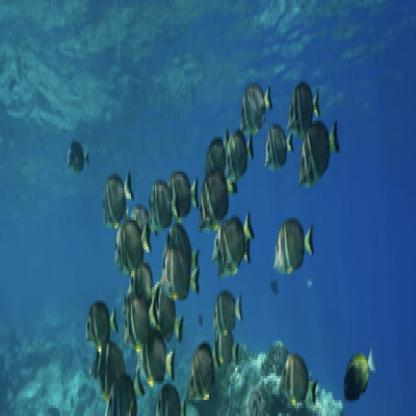Bio: (298, 112, 340, 186), (217, 209, 254, 282), (271, 214, 315, 274), (278, 346, 318, 408), (159, 247, 200, 298), (100, 174, 136, 228), (286, 83, 320, 140), (140, 330, 175, 384), (82, 300, 120, 349), (118, 218, 150, 276), (190, 344, 221, 402), (240, 81, 272, 134), (146, 180, 180, 226), (264, 121, 293, 172)
